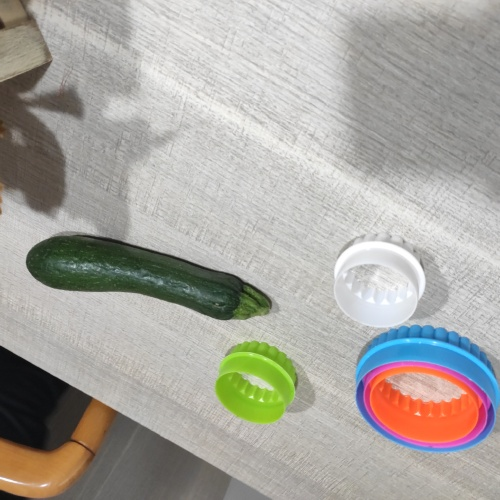zucchine: (25, 230, 277, 325)
